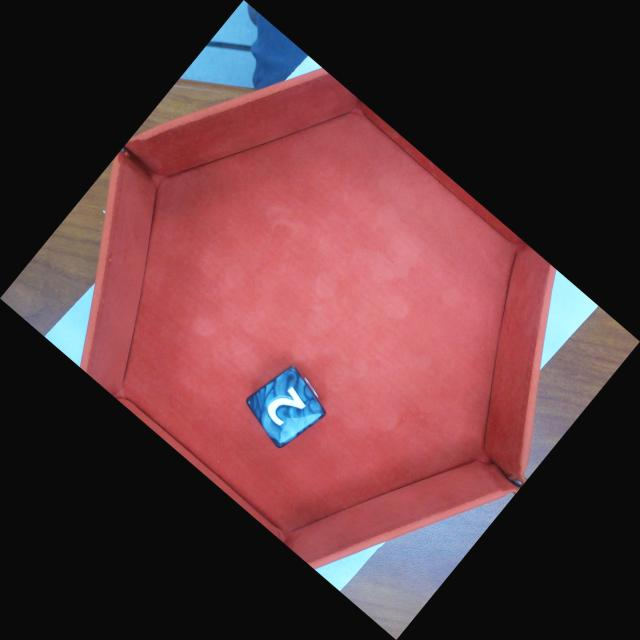dice: (248, 368, 324, 441)
